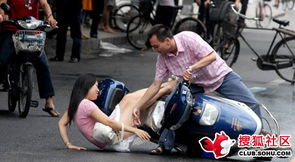fall: (64, 68, 195, 157)
